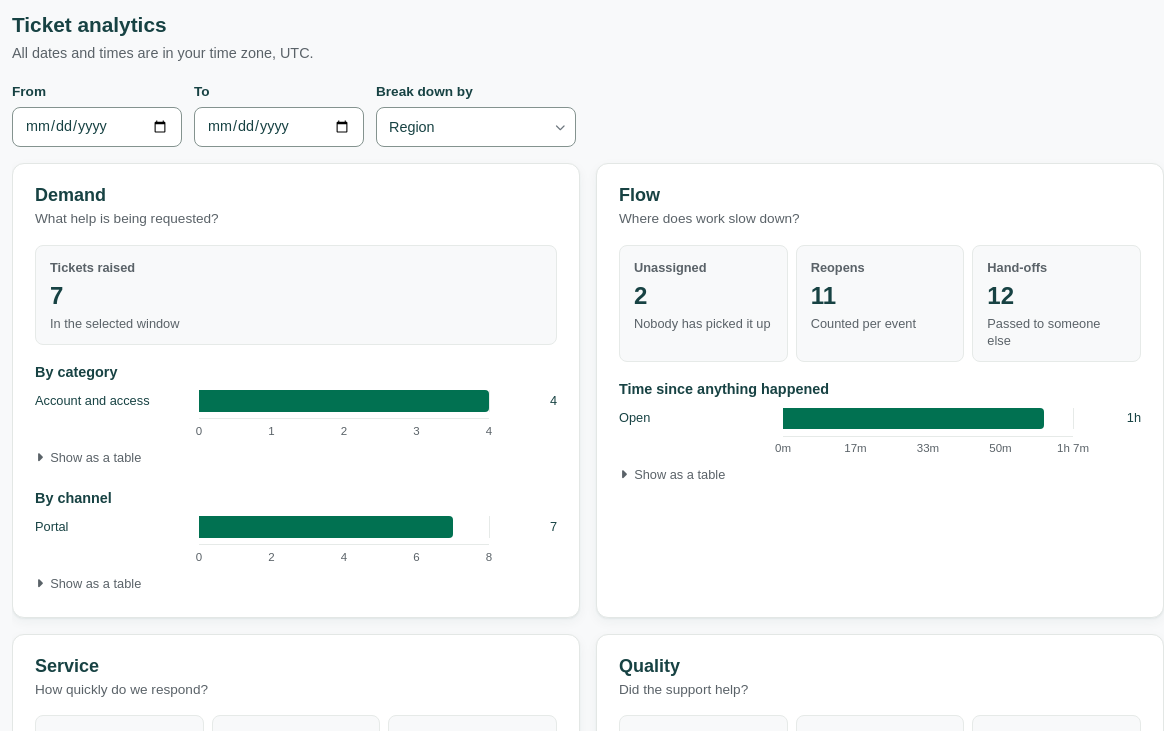
Test: TicketAnalyticsPage › shows the F-35 answer for a closing date past the end of the calendar
The image size is (1164, 731).
Type "9999-12-31" into the date field with id "ticket-analytics-to" at (279, 127), box left=194, top=107, right=364, bottom=147
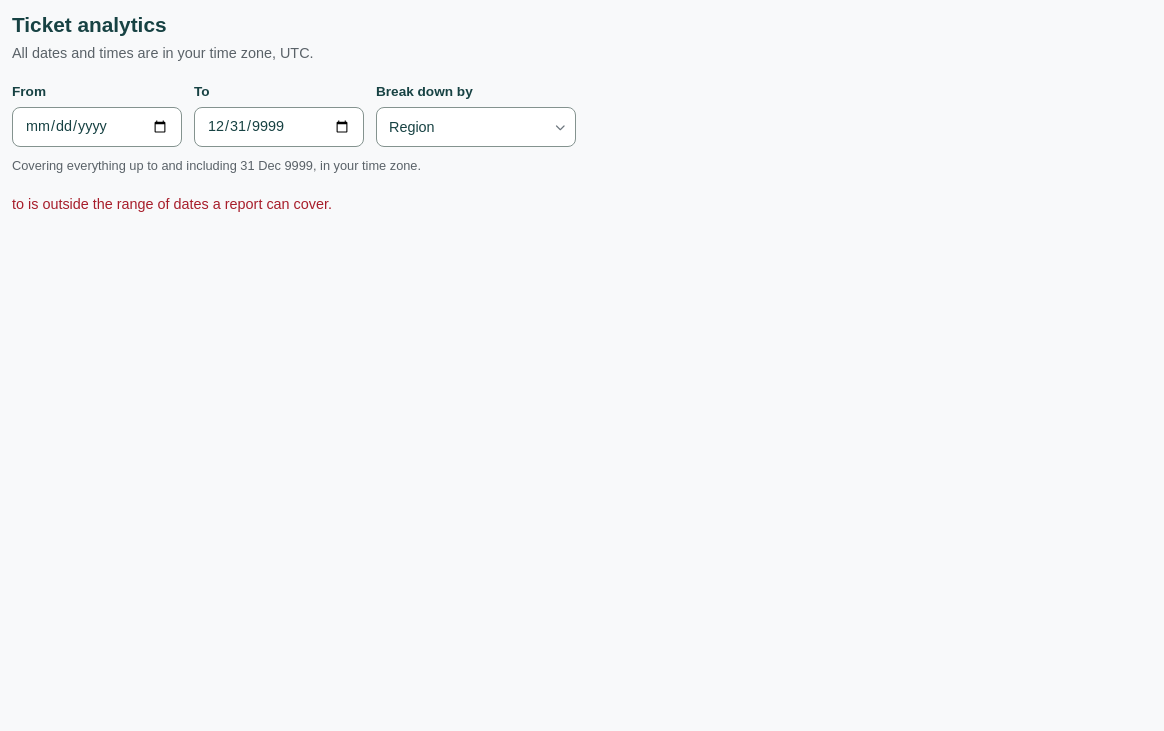
Expected: the message "to is outside the range of dates a report can cover." is shown, left=12, top=196, right=332, bottom=212
